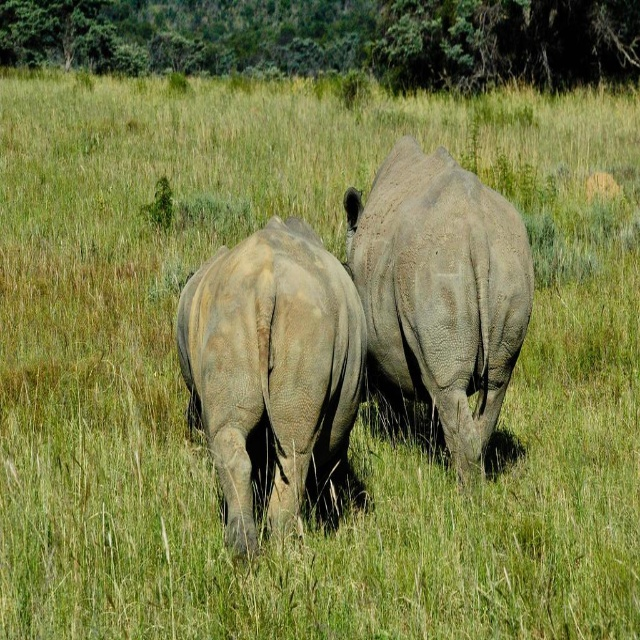Rhinoceros: (343, 135, 534, 490), (189, 214, 368, 574)
